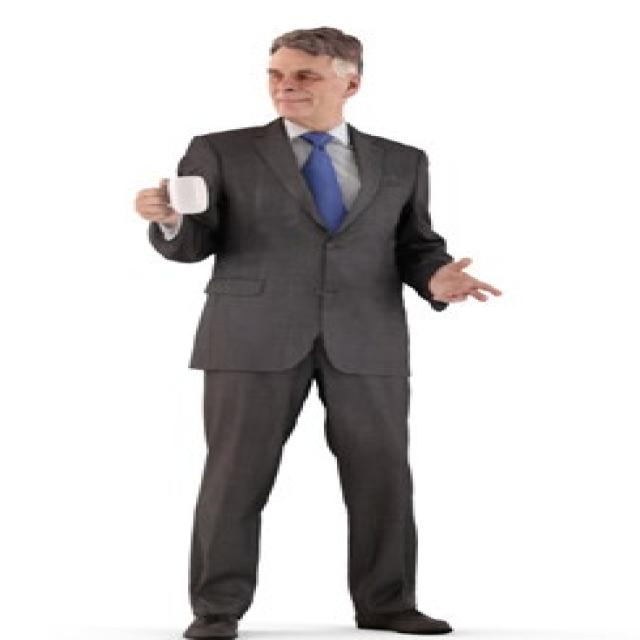standing: (130, 24, 507, 640)
